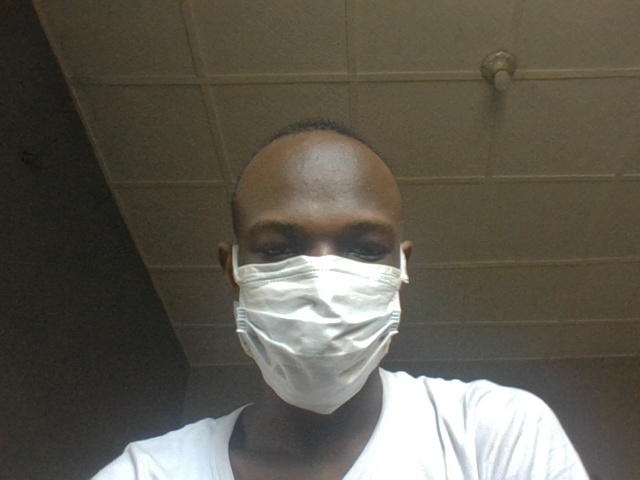Mask: (207, 243, 432, 418)
